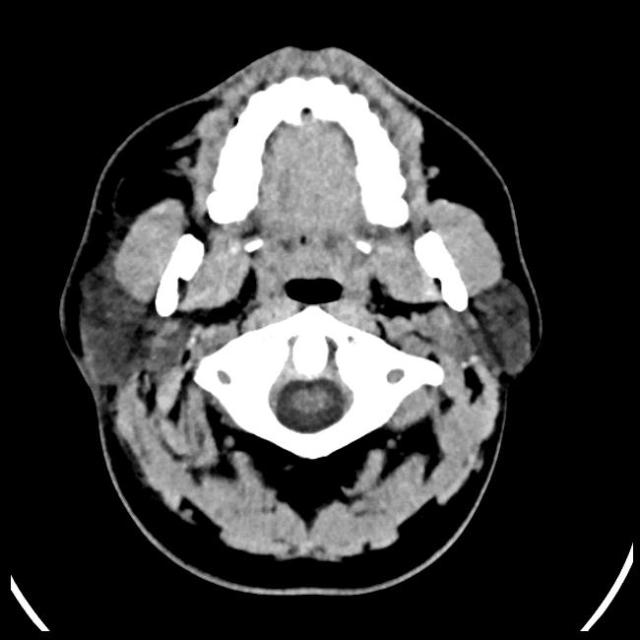lesion: (64, 49, 540, 579)
